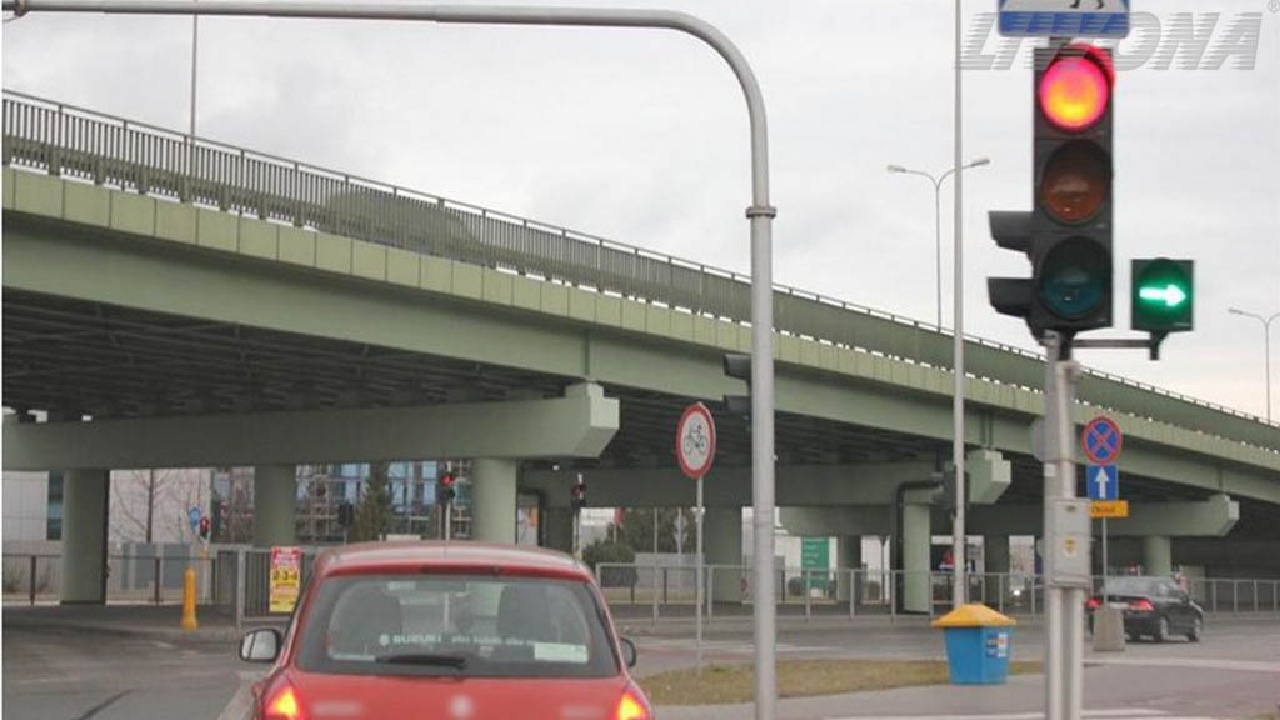B36: (1082, 417, 1122, 464)
D3: (1084, 464, 1119, 500)
Red: (1035, 48, 1111, 322)
